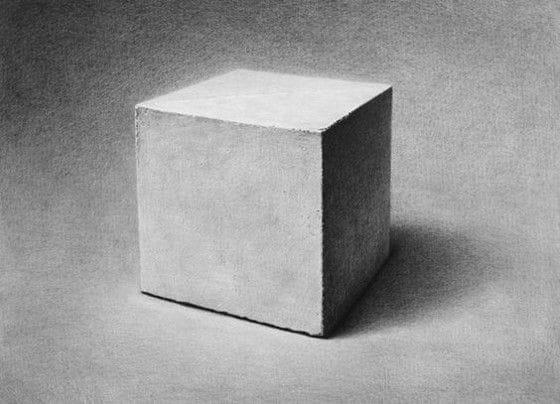cubos: (123, 58, 419, 346)
